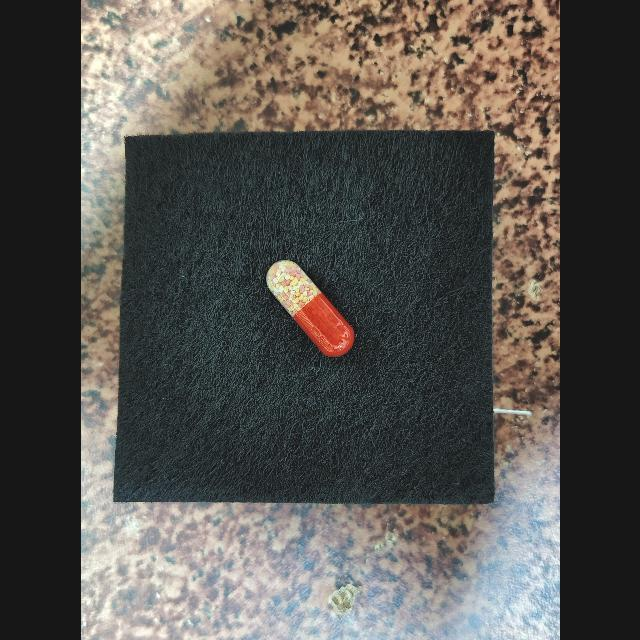Intact Capsule: (266, 260, 354, 356)
